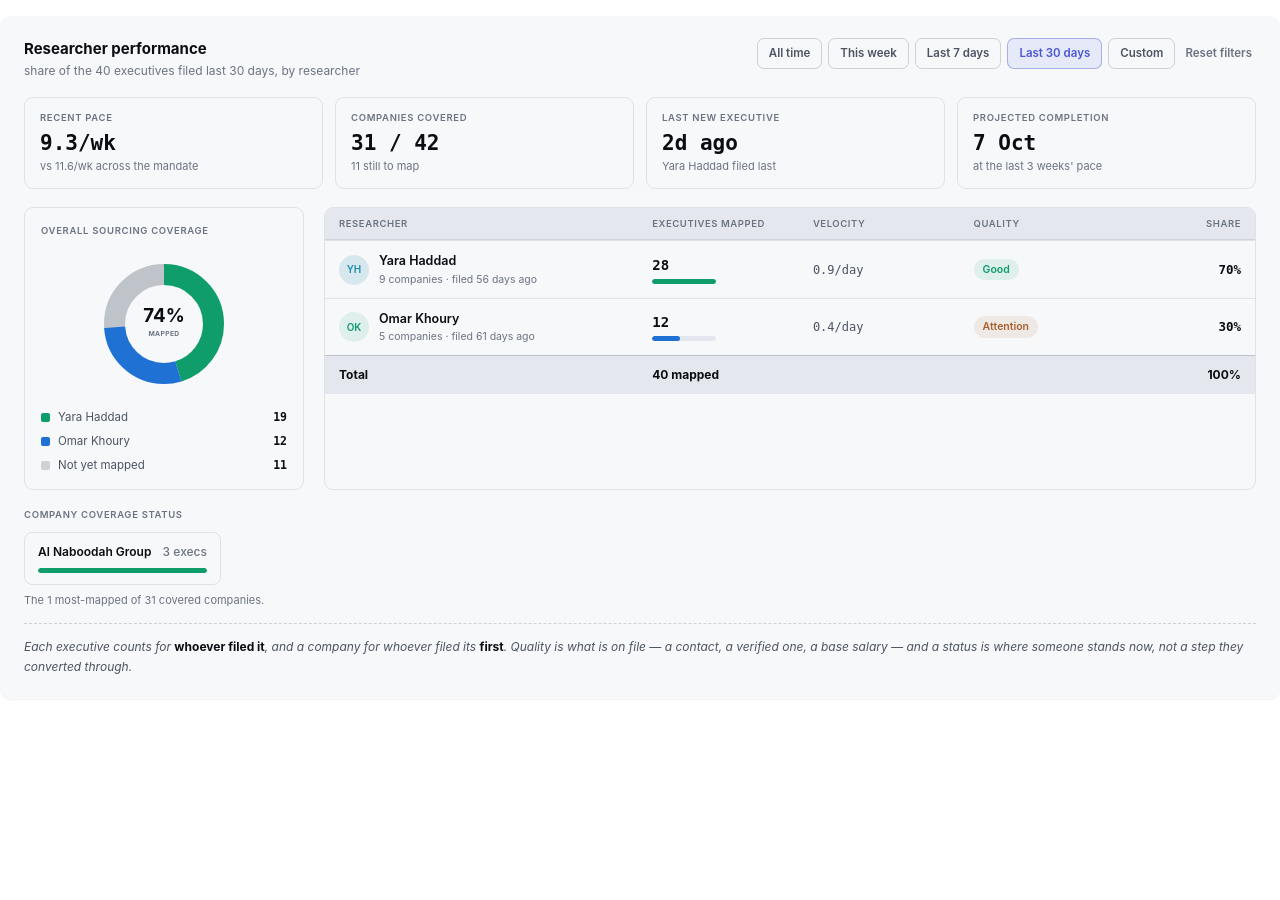
Test: ResearcherPerformanceCard › opens a researcher's drawer and a company's, each from its own row
What coordinates should you click on to do the following:
click the button "Omar Khoury"
I would click on:
 (419, 318)
Its box is [325,298,1255,355].
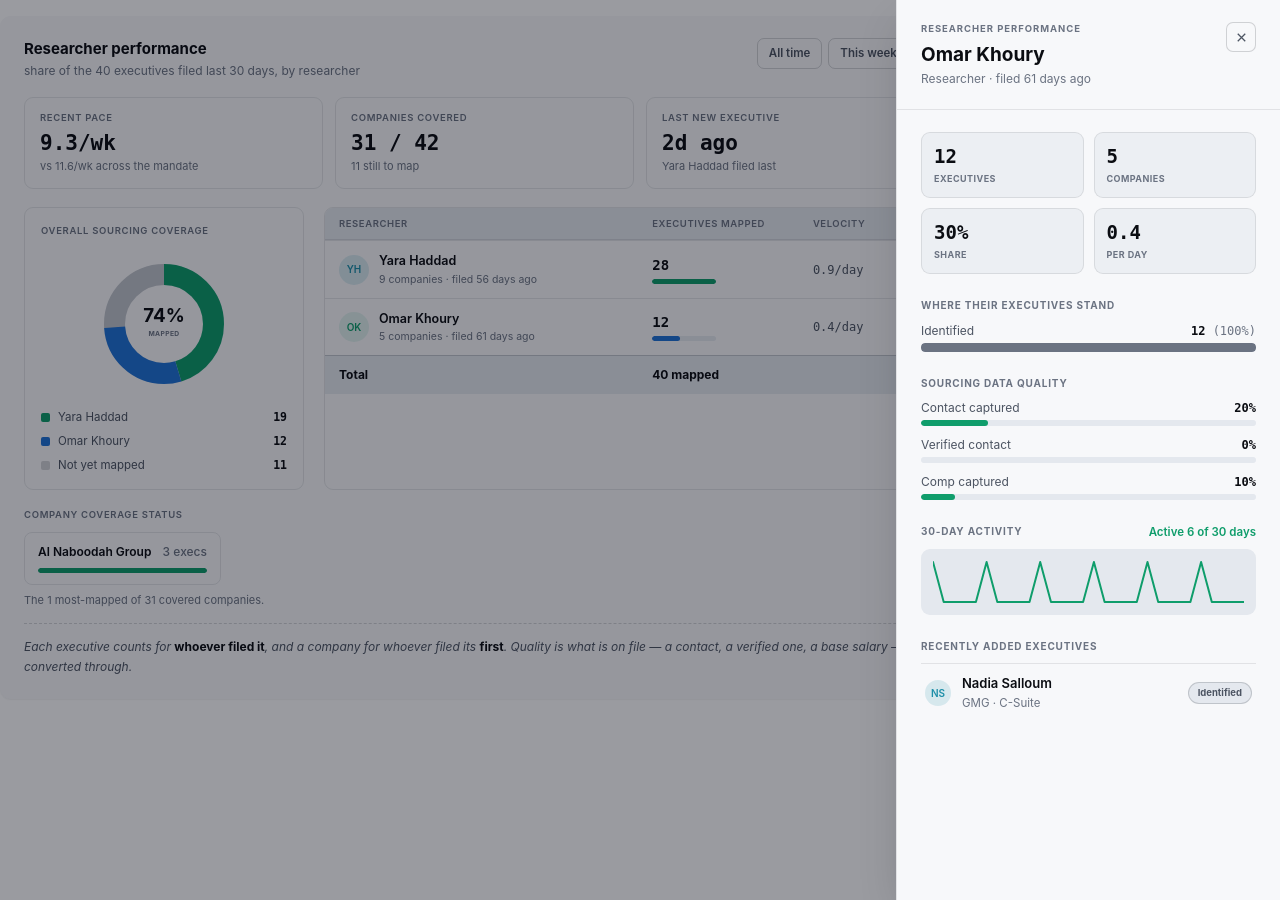
Expected: the text "Nadia Salloum" is shown, [962,675,1052,691]
Expected: the text "Active 6 of 30 days" is shown, [1149,524,1256,541]
What coordinates should you click on to do the following:
click the button named "Close"
I would click on:
 (1241, 37)
Its box is [1226,22,1256,52].
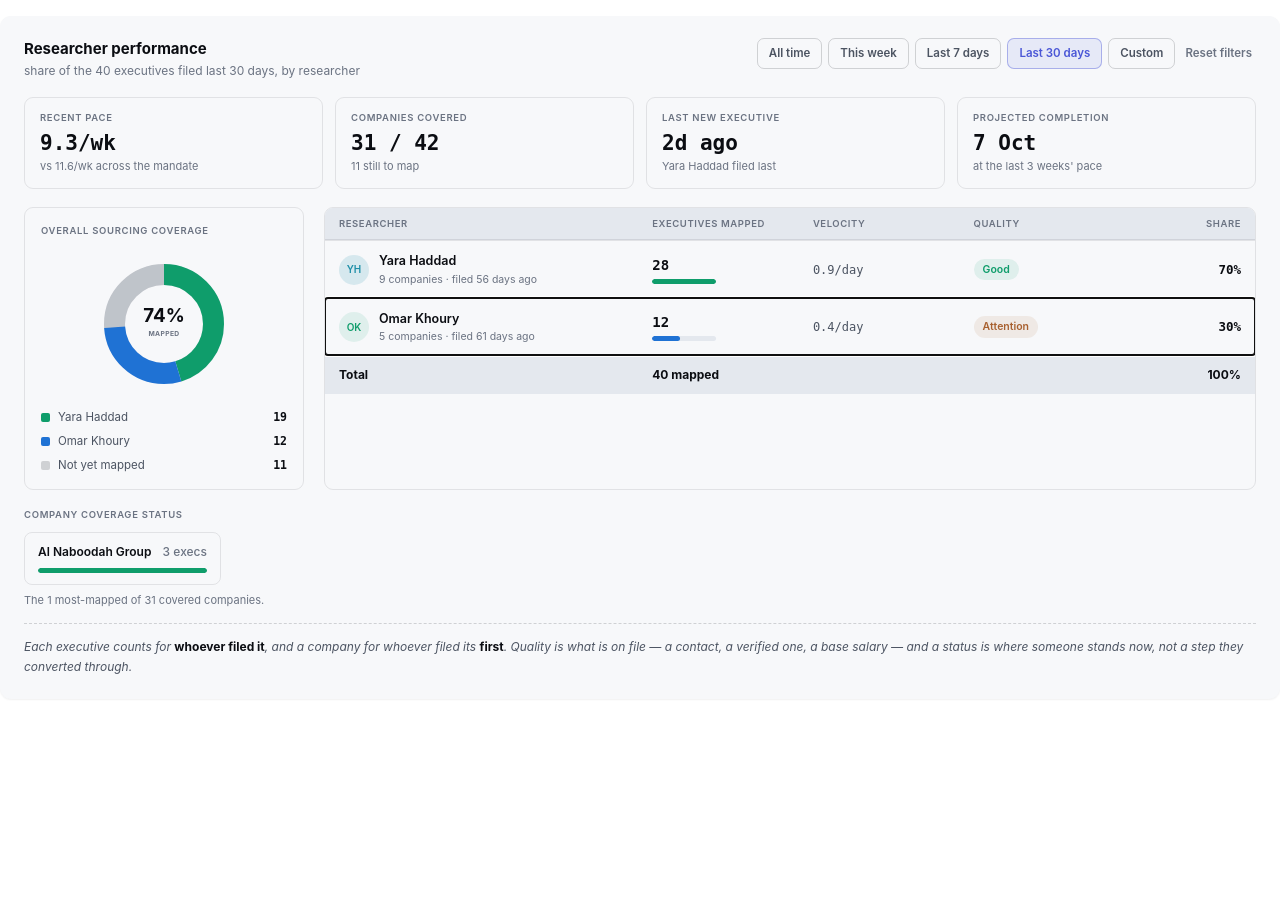
Expected: the dialog is gone
What coordinates should you click on to do the following:
click the button "Al Naboodah Group 3 execs"
I would click on:
 (122, 559)
Its box is [24,532,221,585].
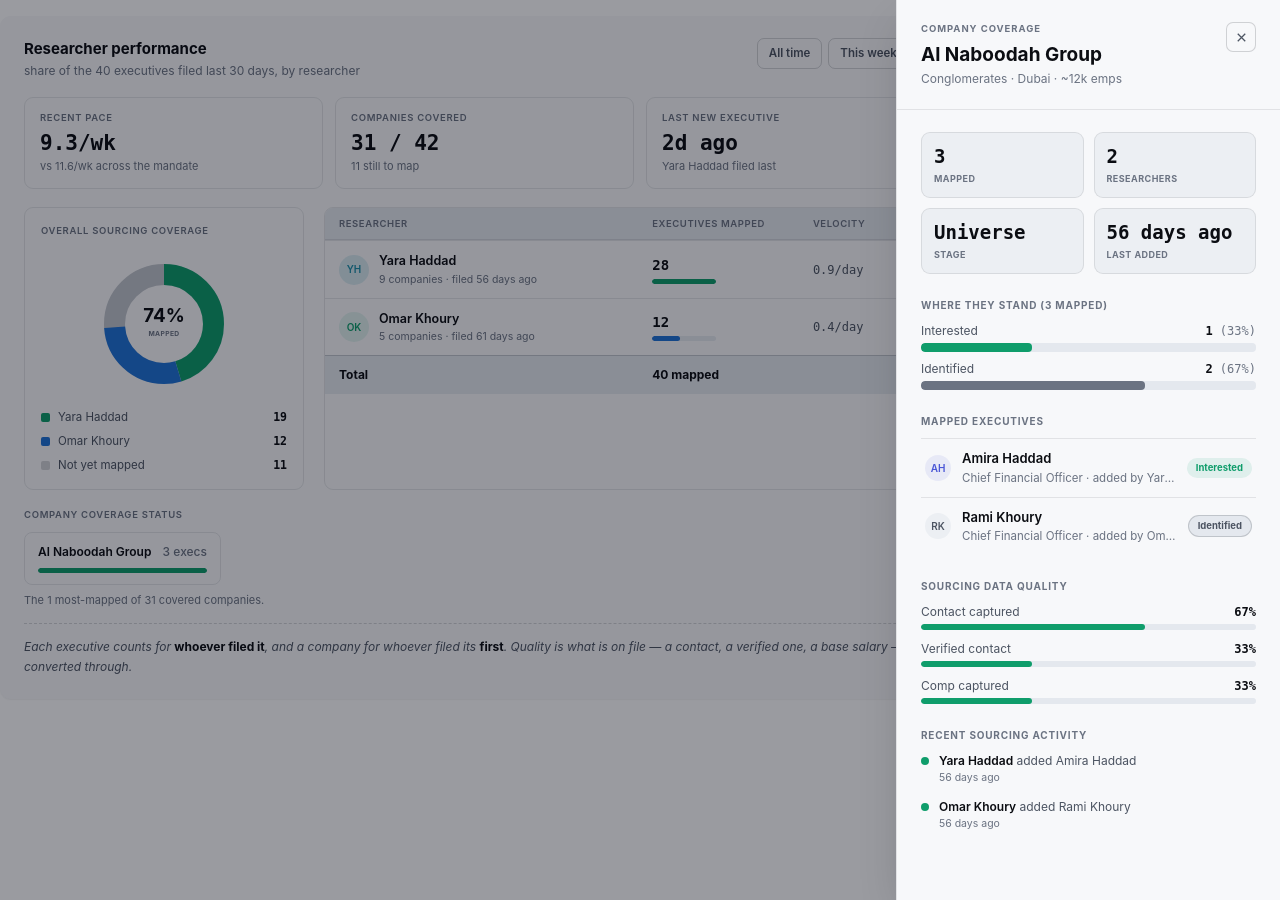
Expected: the text "Conglomerates · Dubai · ~12k emps" is shown, [921,71,1122,87]
Expected: the text "Rami Khoury" is shown, [962,508,1042,524]
